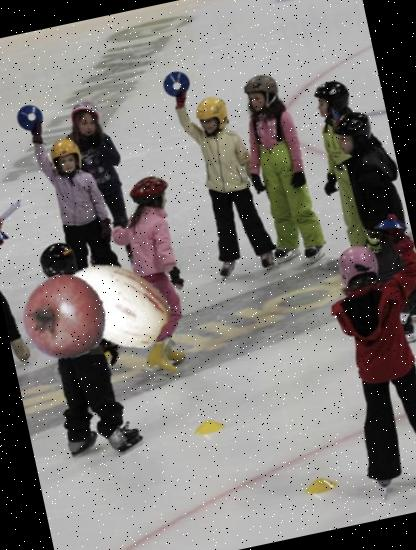Pepino: (51, 239, 180, 368)
Pomegranate: (14, 267, 115, 368)
